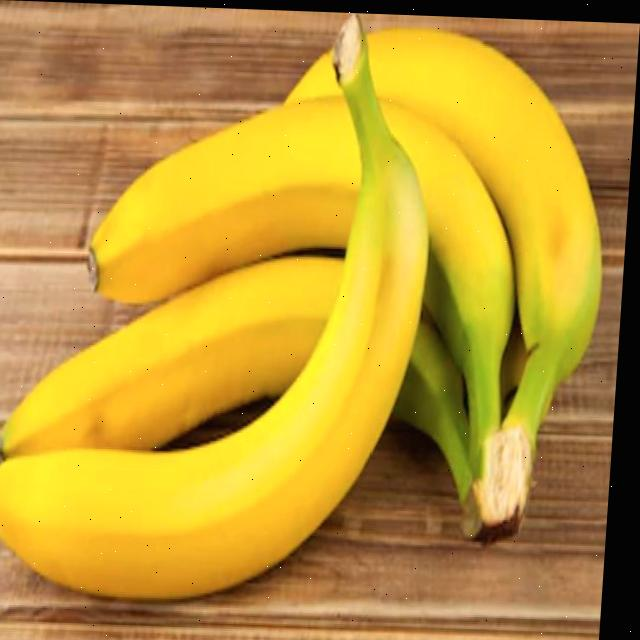banana: (0, 34, 440, 610), (100, 27, 603, 527)
